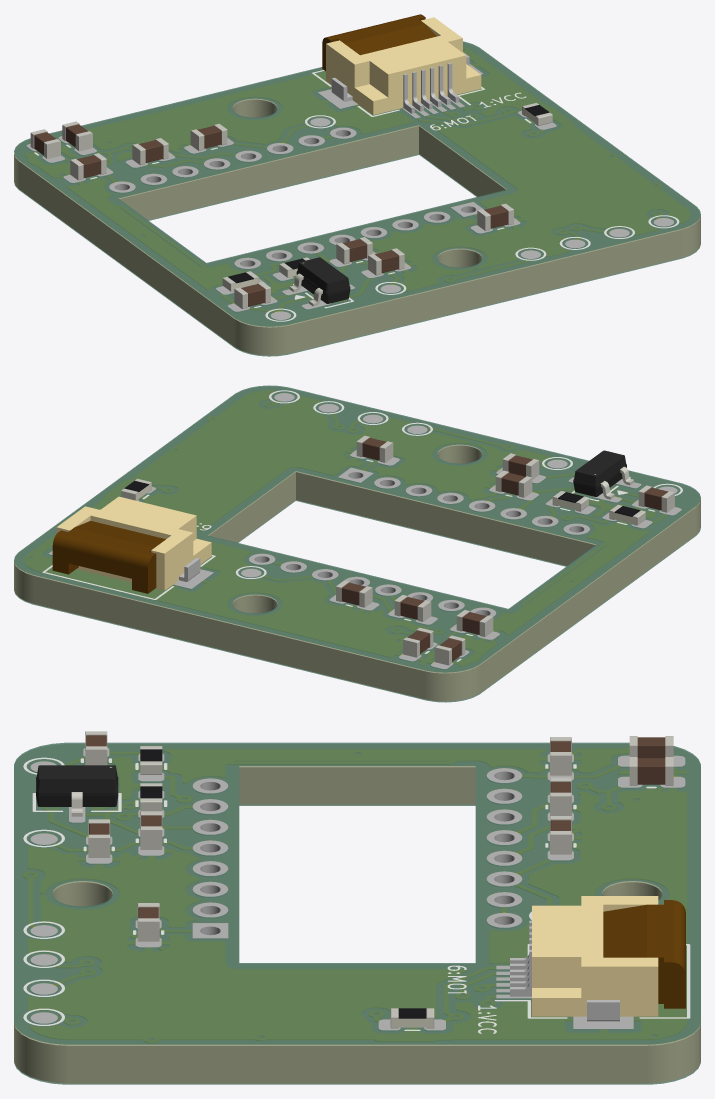
Rendered from k0d3ball35-sensor.glb.
The picture shows the model from 3 angles, top to bottom: view 1: azimuth 30°, elevation 25°; view 2: azimuth 150°, elevation 25°; view 3: azimuth 270°, elevation 25°; orthographic projection. The views are drawn at different scales.
Parts seen in each view (by area): view 1: =>[0:1:1:18], =>[0:1:1:20], =>[0:1:1:13], body, =>[0:1:1:14], =>[0:1:1:3] (×9), lock, =>[0:1:1:7], pins, =>[0:1:1:16], =>[0:1:1:19]; view 2: =>[0:1:1:18], =>[0:1:1:20], =>[0:1:1:13], =>[0:1:1:14], =>[0:1:1:3] (×9), body, lock, =>[0:1:1:7], =>[0:1:1:19], =>[0:1:1:16], =>[0:1:1:5] (×2); view 3: =>[0:1:1:18], =>[0:1:1:20], =>[0:1:1:13], =>[0:1:1:14], body, =>[0:1:1:3] (×9), lock, =>[0:1:1:7], =>[0:1:1:16], =>[0:1:1:5] (×3), =>[0:1:1:19], pins.
Boxes of the visible parts, x1,y1,x2,y2 form: =>[0:1:1:18]: (14,41,700,326); =>[0:1:1:20]: (14,43,700,355); =>[0:1:1:13]: (25,47,689,312); body: (326,17,481,114); =>[0:1:1:14]: (26,64,673,319); =>[0:1:1:3] (×9): (30,121,513,308); lock: (322,14,436,71); =>[0:1:1:7]: (289,257,350,306); pins: (331,52,469,113); =>[0:1:1:16]: (34,70,679,321); =>[0:1:1:19]: (14,154,700,356); =>[0:1:1:18]: (14,385,700,672); =>[0:1:1:20]: (14,387,700,701); =>[0:1:1:13]: (25,390,666,666); =>[0:1:1:14]: (48,393,681,669); =>[0:1:1:3] (×9): (336,435,674,665); body: (56,496,211,590); lock: (52,520,165,593); =>[0:1:1:7]: (573,450,633,499); =>[0:1:1:19]: (14,500,700,702); =>[0:1:1:16]: (42,390,682,661); =>[0:1:1:5] (×2): (552,491,645,525); =>[0:1:1:18]: (14,742,700,1044); =>[0:1:1:20]: (14,744,700,1083); =>[0:1:1:13]: (23,747,686,1042); =>[0:1:1:14]: (30,748,685,1030); body: (532,896,658,1016); =>[0:1:1:3] (×9): (85,731,673,941); lock: (603,900,685,1008); =>[0:1:1:7]: (36,765,118,816); =>[0:1:1:16]: (23,757,690,1033); =>[0:1:1:5] (×3): (140,746,434,1028); =>[0:1:1:19]: (14,804,700,1084); pins: (510,920,619,1021).
Size of the model in its own units: 0.026 by 0.00367 by 0.025.
